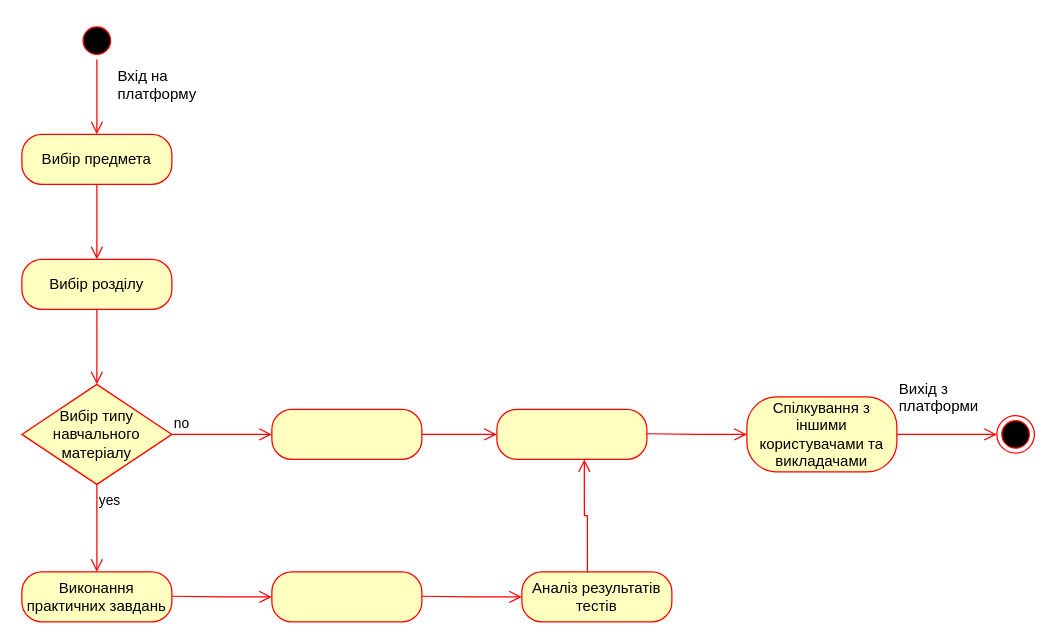
The diagram is 1056 pixels wide and 644 high, and some of its shapes have lost their labels. Each missing label, with the box of its shape:
Отримання рекомендацій: (496, 408, 647, 459)
Перегляд теоретичних матеріалів: (271, 408, 422, 459)
Проходження тестів: (271, 571, 422, 622)
